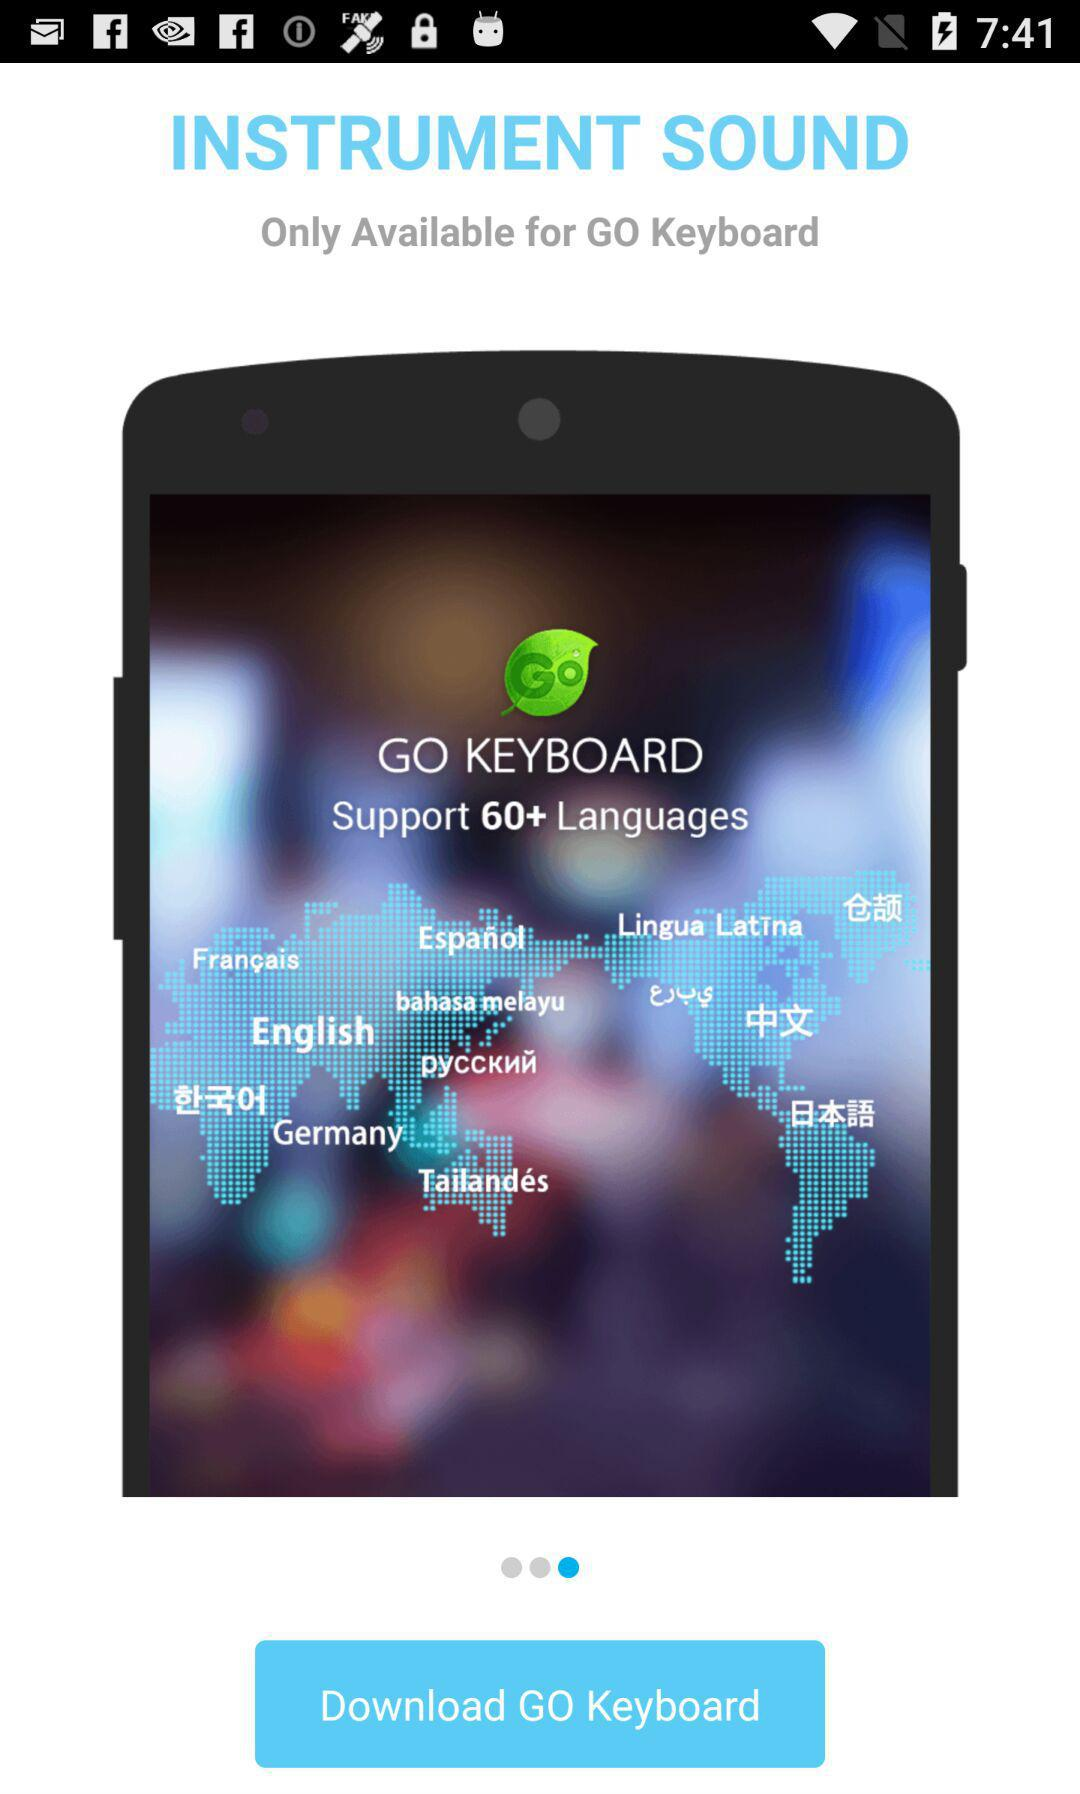Image: (113, 350, 969, 1497)
PageIndicator: (501, 1556, 582, 1580)
Text: (173, 115, 910, 172), (263, 217, 819, 256)
TextButton: (255, 1639, 826, 1768)
UpperTaskBar: (1, 1, 1080, 64)
